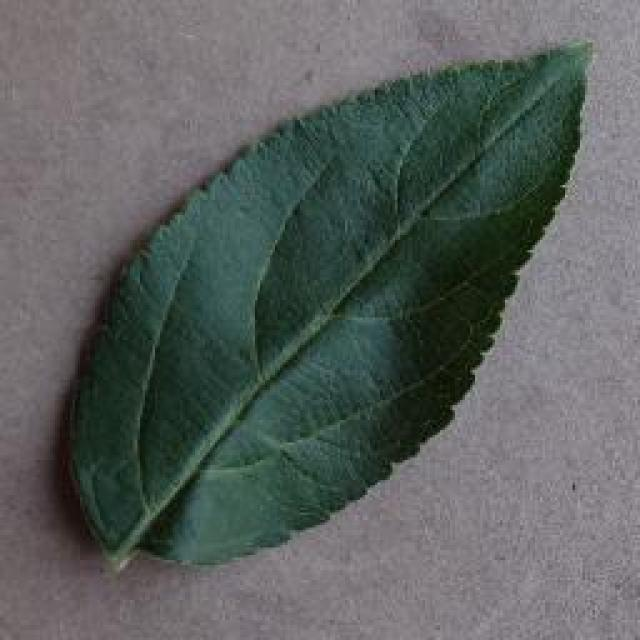apple healthy: (57, 35, 595, 575)
